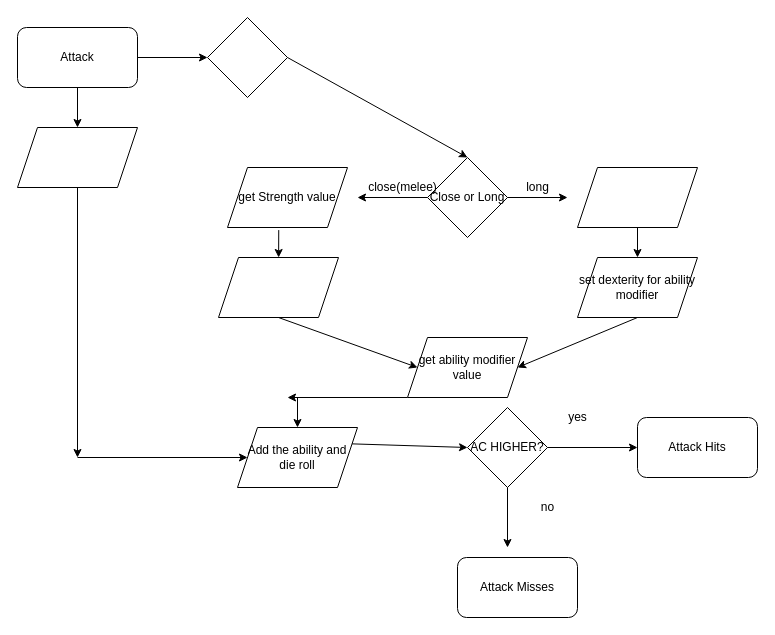
The diagram is 775 pixels wide and 635 high, and some of its shapes have lost their labels. The centre of each missing label's shape, as x and y in pixels:
get Detexirty value: (637,197)
Roll 20 Sided Die: (77,157)
Select target: (247,57)
set strehgth to ability modifer value: (278,287)
